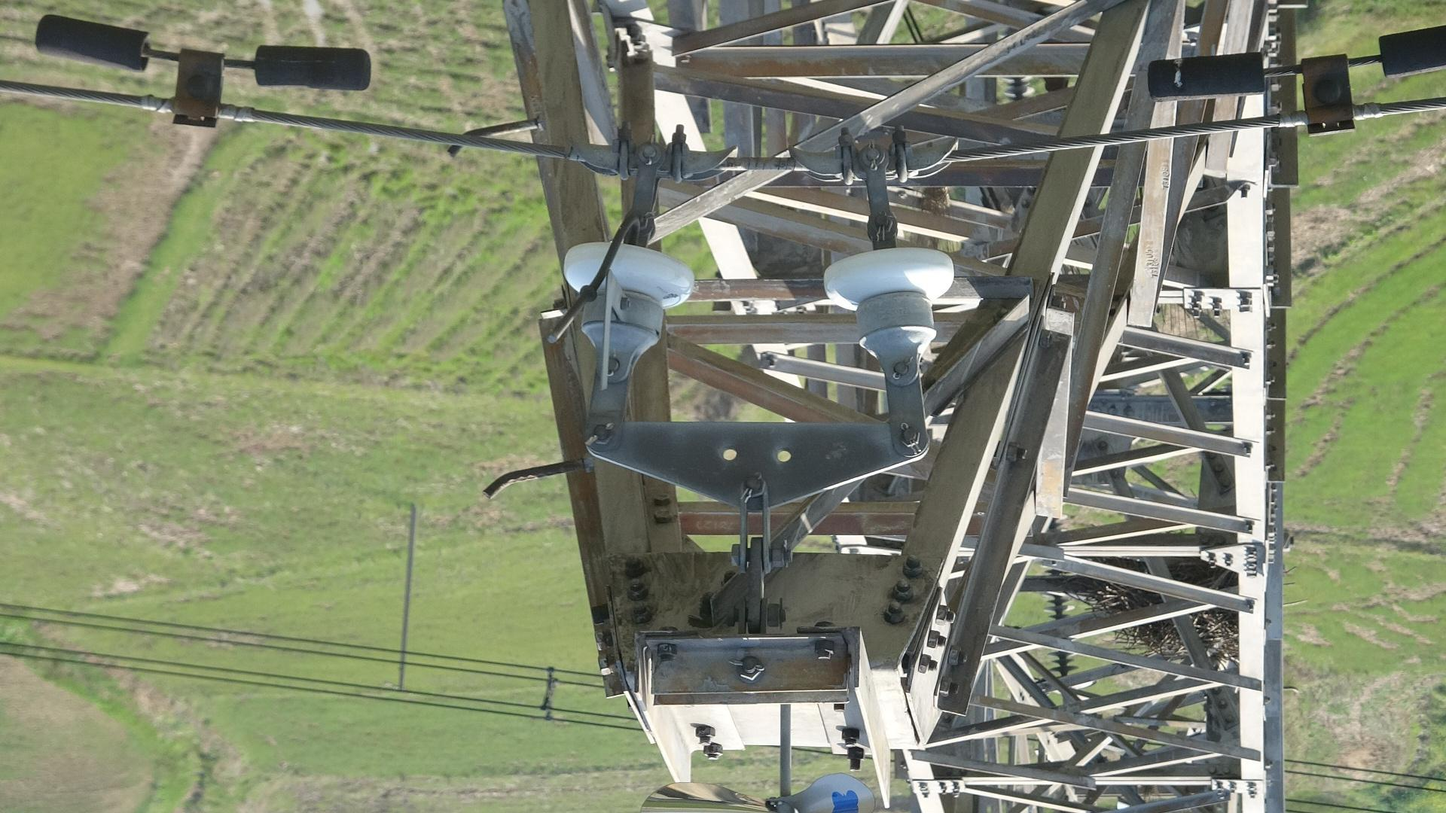damper: (26, 10, 381, 139), (1133, 16, 1446, 149)
nest: (1071, 576, 1240, 668)
